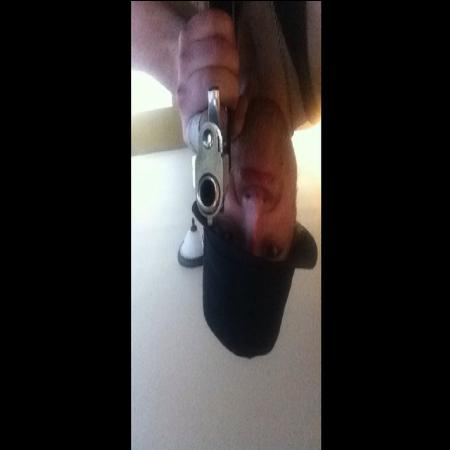Pistol: (194, 82, 234, 228)
